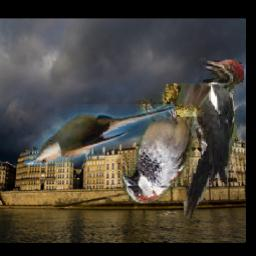Cuckoo: (24, 104, 175, 166)
Sparrow: (122, 84, 212, 204)
Woodpecker: (184, 59, 244, 219)
